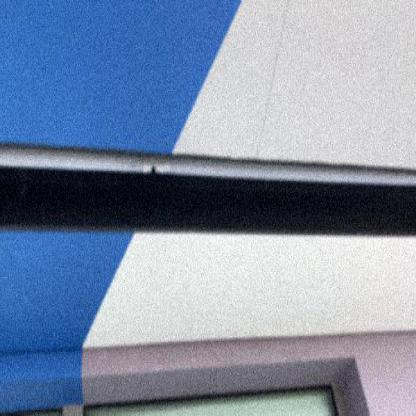light_off: (3, 92, 415, 218)
